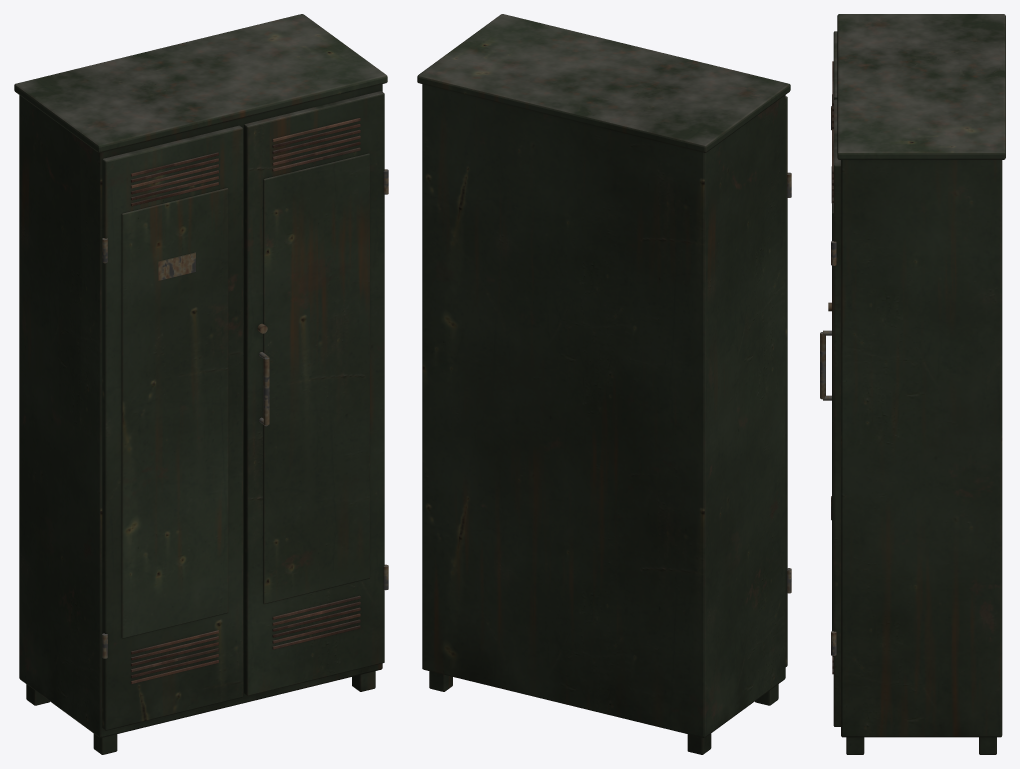
The model's file is Cabinet_Metal.fbx.
3 renders of one model, left to right at view 1: azimuth 30°, elevation 25°; view 2: azimuth 150°, elevation 25°; view 3: azimuth 270°, elevation 25°, orthographic.
Parts seen in each view (by area): view 1: Cabinet_Metal_Mesh; view 2: Cabinet_Metal_Mesh; view 3: Cabinet_Metal_Mesh.
Boxes of the visible parts, x1=… form: Cabinet_Metal_Mesh: x1=14, y1=14, x2=388, y2=754; Cabinet_Metal_Mesh: x1=417, y1=14, x2=791, y2=754; Cabinet_Metal_Mesh: x1=820, y1=14, x2=1005, y2=754.
Size of the model in its own units: 0.92 by 1.87 by 0.518.
